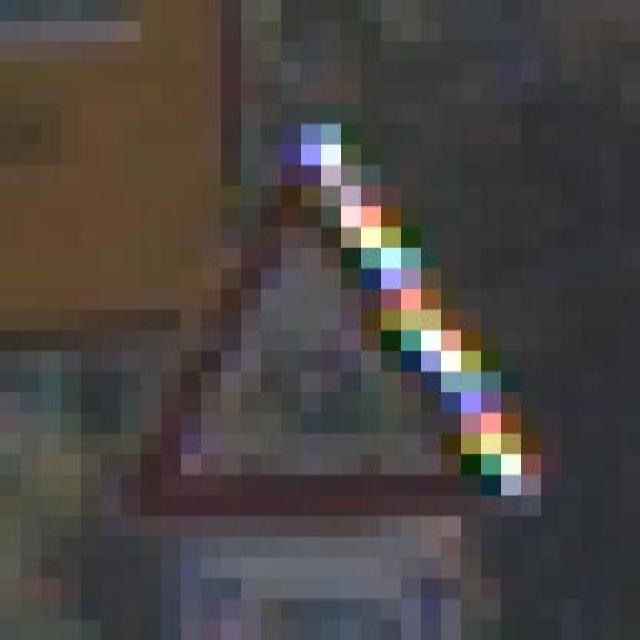CYCLE ROUTE AHEAD WARNING: (80, 82, 540, 558)
